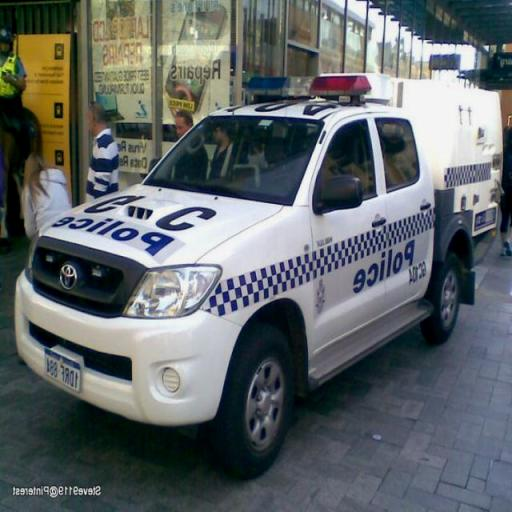Ambulance: (12, 70, 502, 480)
